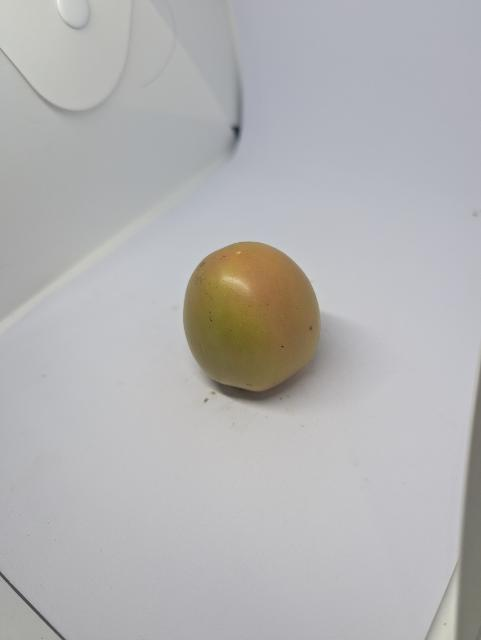turning: (182, 239, 323, 399)
